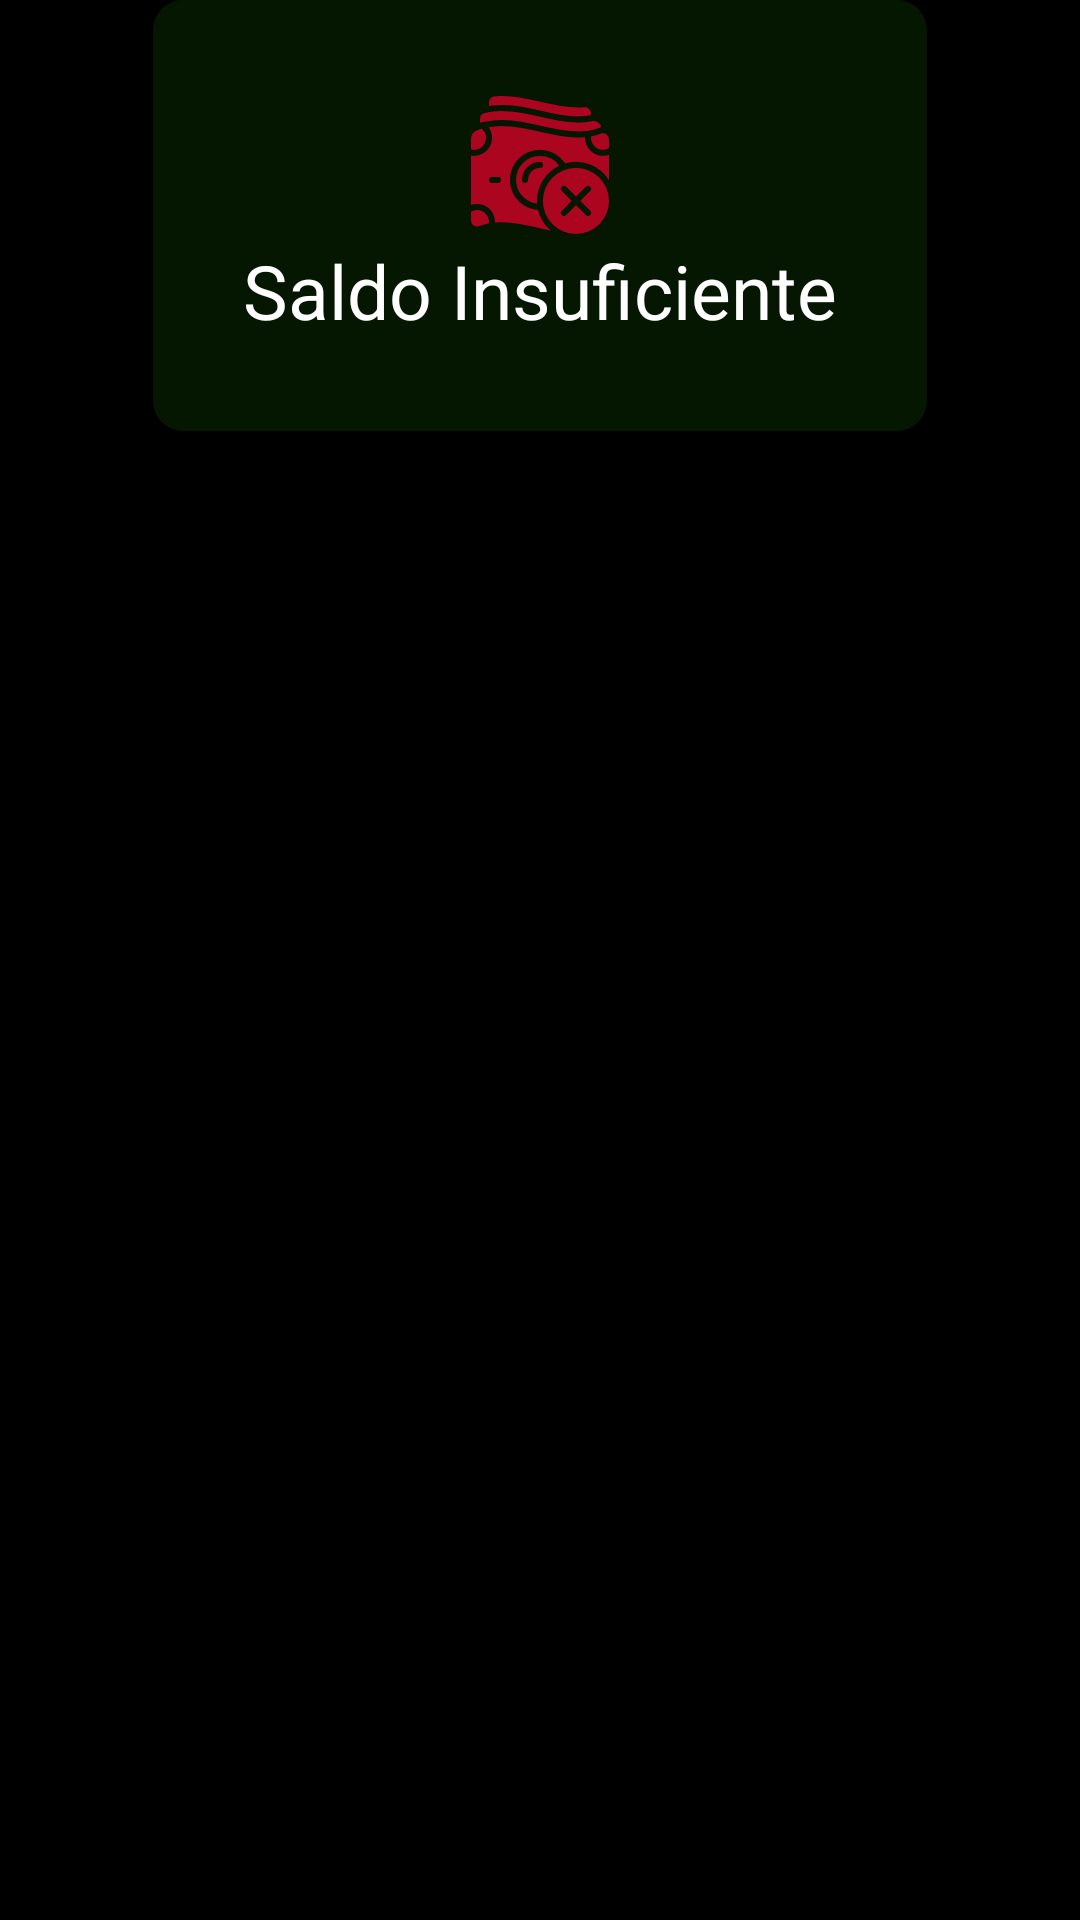

Named icons in this screenshot (1080w x 1920h) and their bounding boxes, (x1, y1, x2, y2):
no money: (471, 96, 609, 234)
